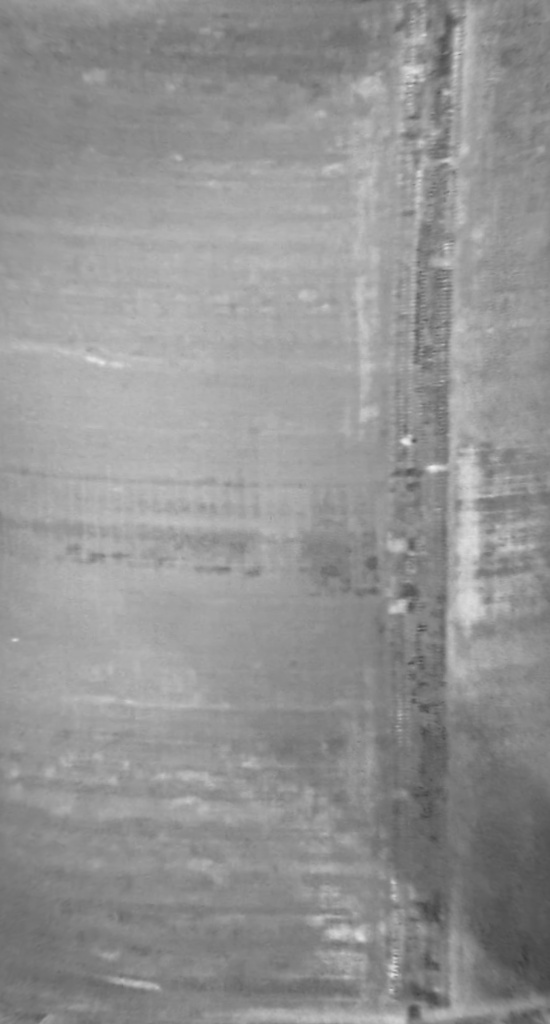splice: (366, 1, 469, 1024)
